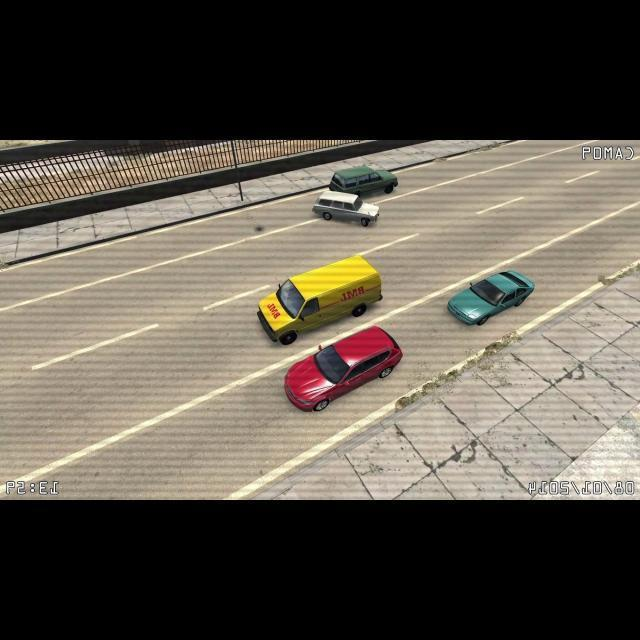moderate: (310, 163, 402, 227)
